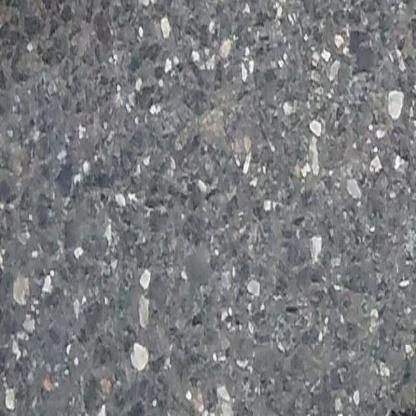Cracks: (365, 361, 416, 416)
